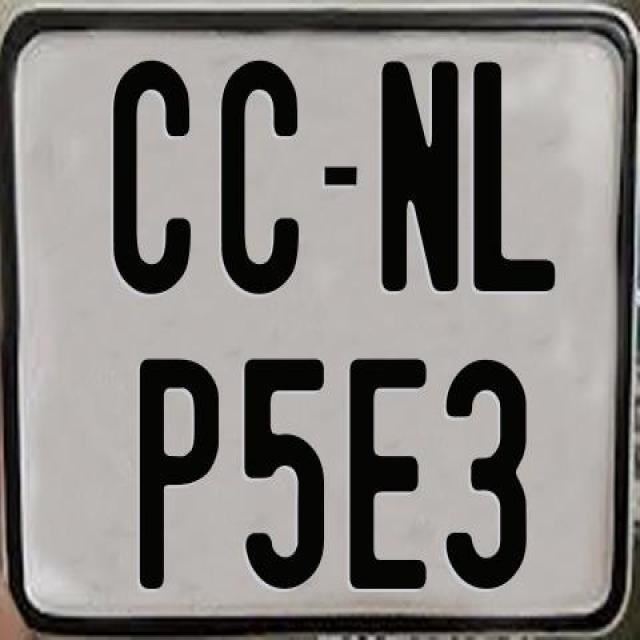3: (444, 358, 526, 597)
5: (242, 356, 326, 588)
C: (112, 61, 195, 304), (220, 60, 304, 298)
E: (346, 358, 426, 592)
L: (470, 61, 560, 292)
N: (380, 59, 458, 291)
P: (140, 356, 226, 590)
